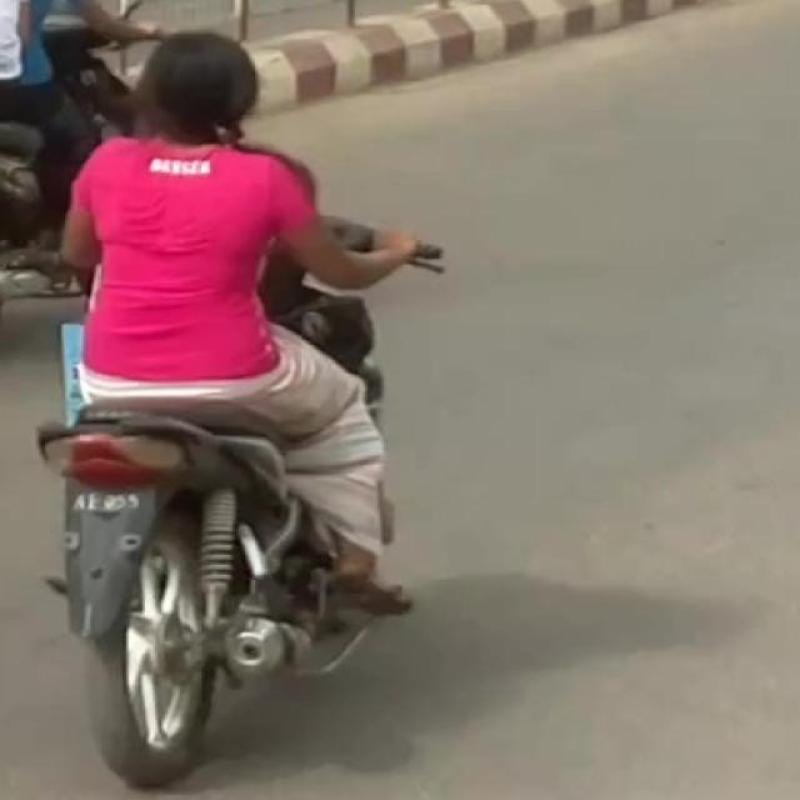nohelmet: (124, 28, 332, 189)
